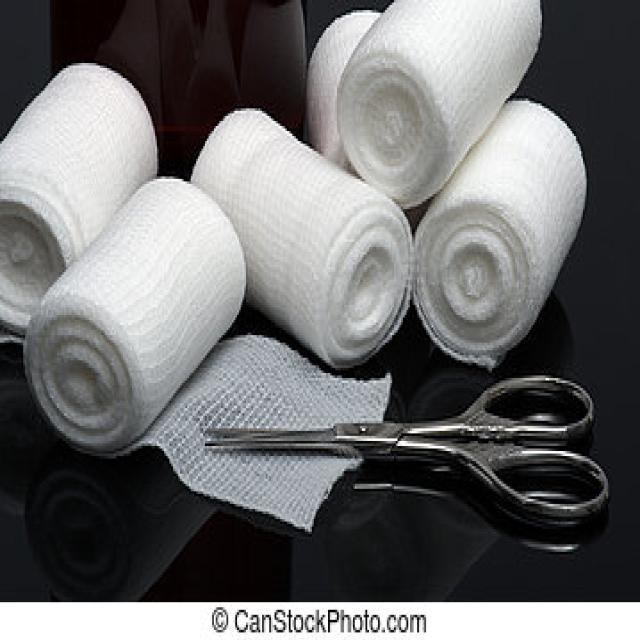B3: (182, 358, 626, 539), (180, 91, 421, 368), (394, 91, 606, 378)
